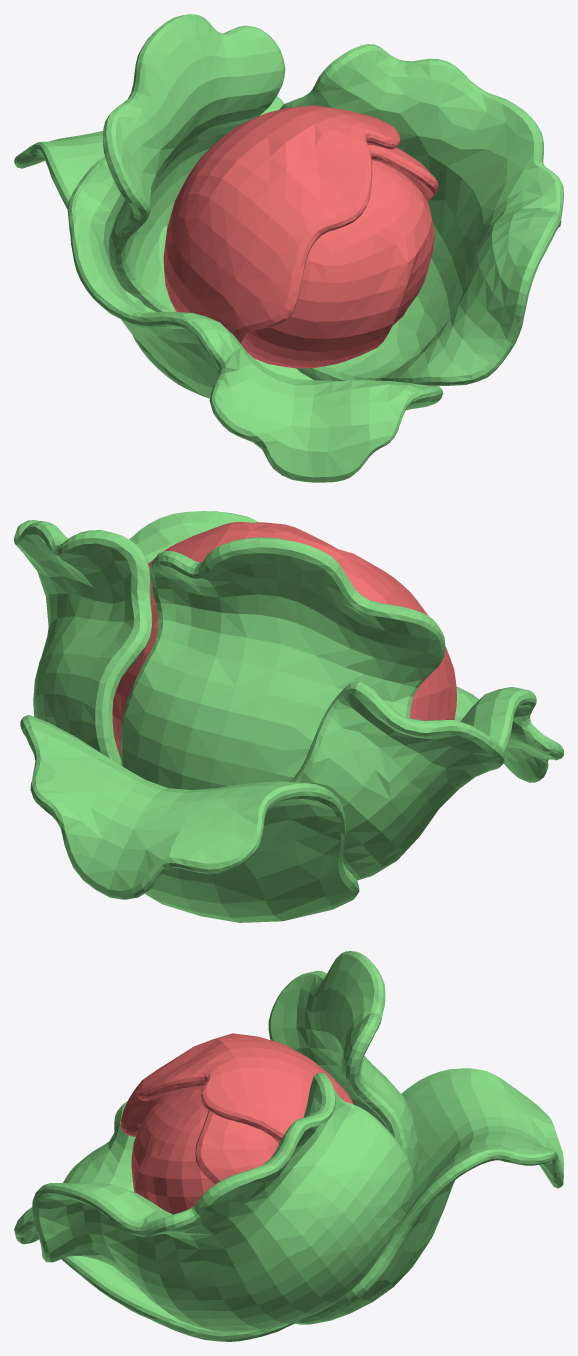
The model's file is crop_cab3.glb.
3 renders of one model, top to bottom at view 1: azimuth 30°, elevation 25°; view 2: azimuth 150°, elevation 25°; view 3: azimuth 270°, elevation 25°, orthographic. The views are drawn at different scales.
Parts seen in each view (by area): view 1: leaf, cap; view 2: leaf, cap; view 3: leaf, cap.
Boxes of the visible parts, x1,y1,x2,y2 form: leaf: [14, 14, 563, 482]; cap: [163, 105, 438, 368]; leaf: [14, 511, 563, 922]; cap: [112, 522, 456, 758]; leaf: [14, 951, 563, 1341]; cap: [121, 1033, 353, 1214].
Size of the model in its own units: 0.3091 by 0.2476 by 0.3745.
